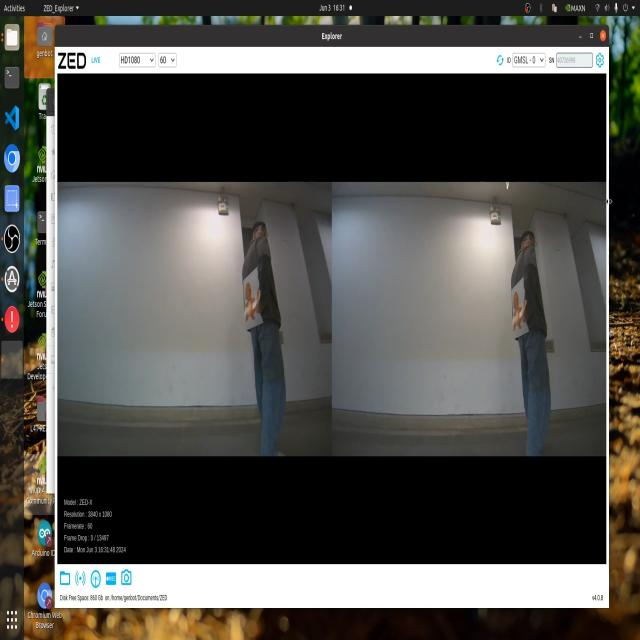red: (239, 271, 267, 319), (509, 290, 532, 336)
